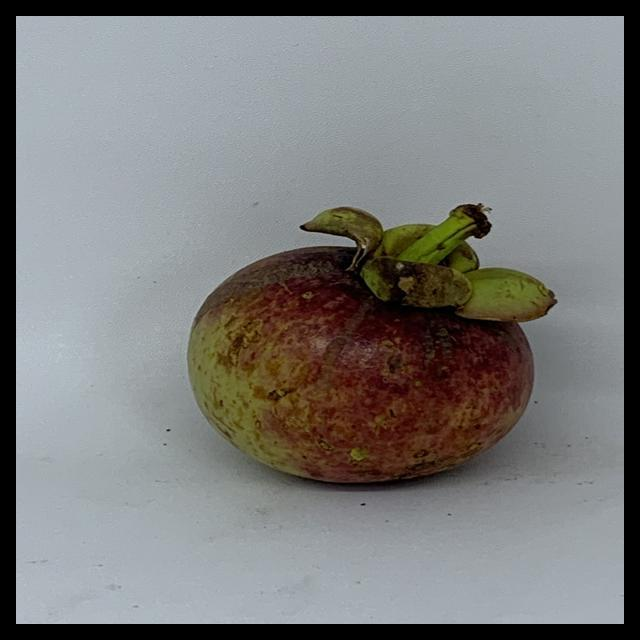mangosteen: (188, 198, 553, 491)
